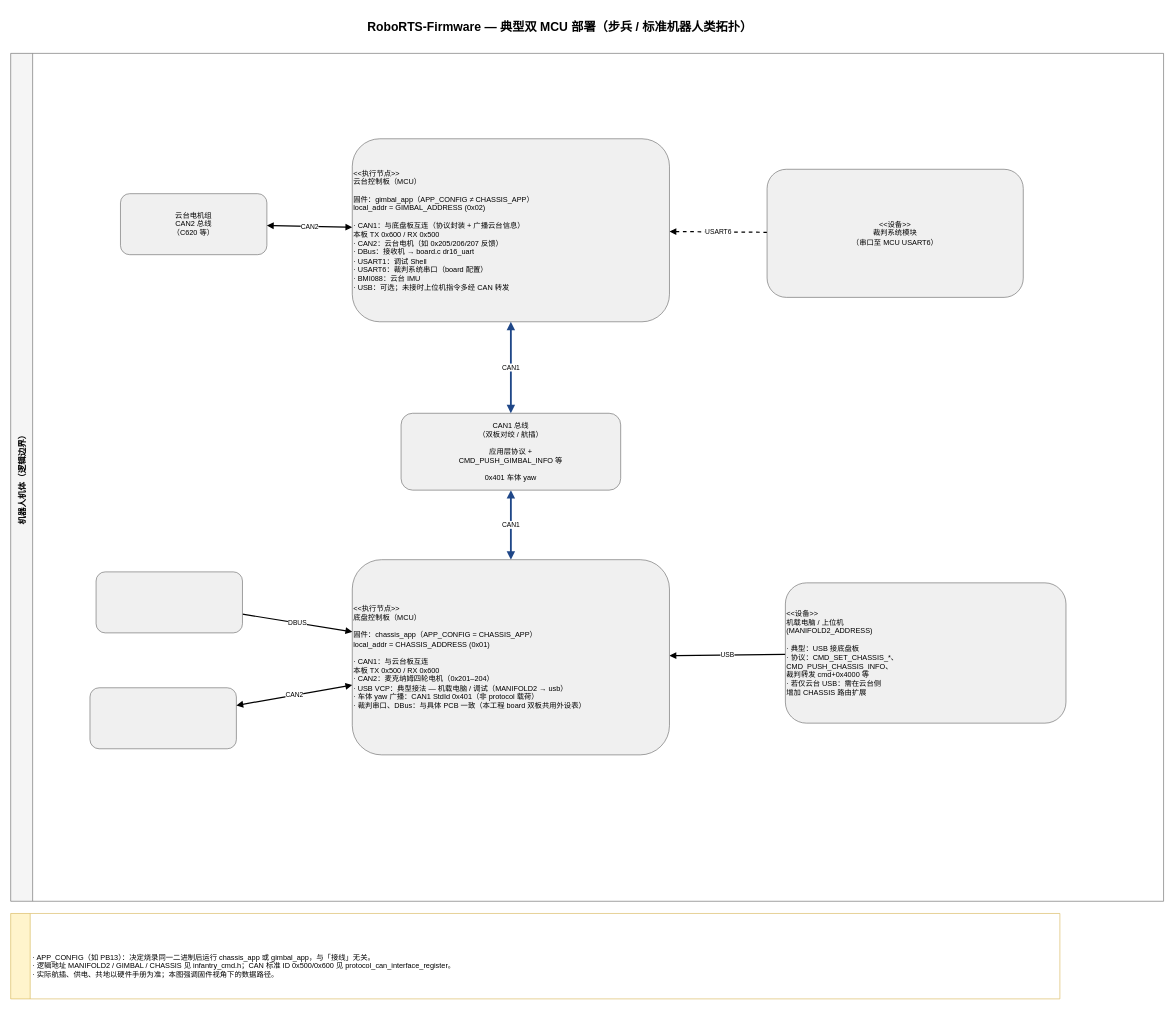
This 1174x1010 diagram has some shape labels left out. Each missing label, with the box of its shape:
<<设备>> 遥控器 + 接收机（DBUS）: (95, 571, 242, 633)
图例与说明: (10, 913, 1060, 999)
底盘电机组 CAN2 总线 （四轮）: (89, 687, 236, 749)
